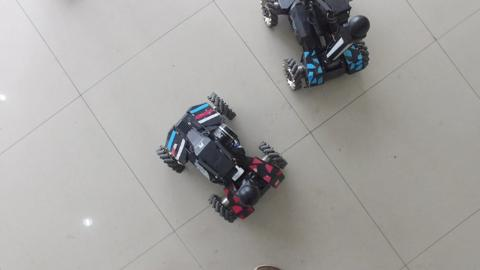chariot: (155, 87, 292, 226), (255, 1, 380, 100)
